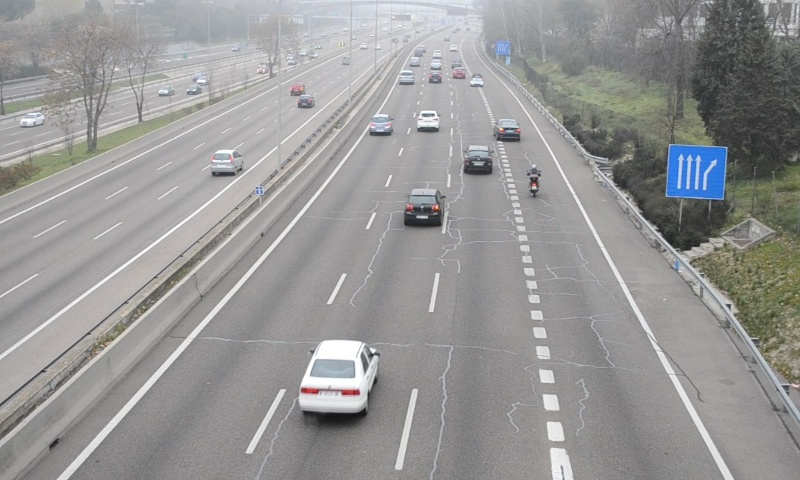car: (300, 340, 380, 415), (404, 188, 444, 228), (462, 145, 493, 173), (494, 118, 521, 142), (368, 112, 394, 134), (416, 110, 441, 131), (398, 68, 415, 86)
motorcycle: (526, 162, 542, 198)
